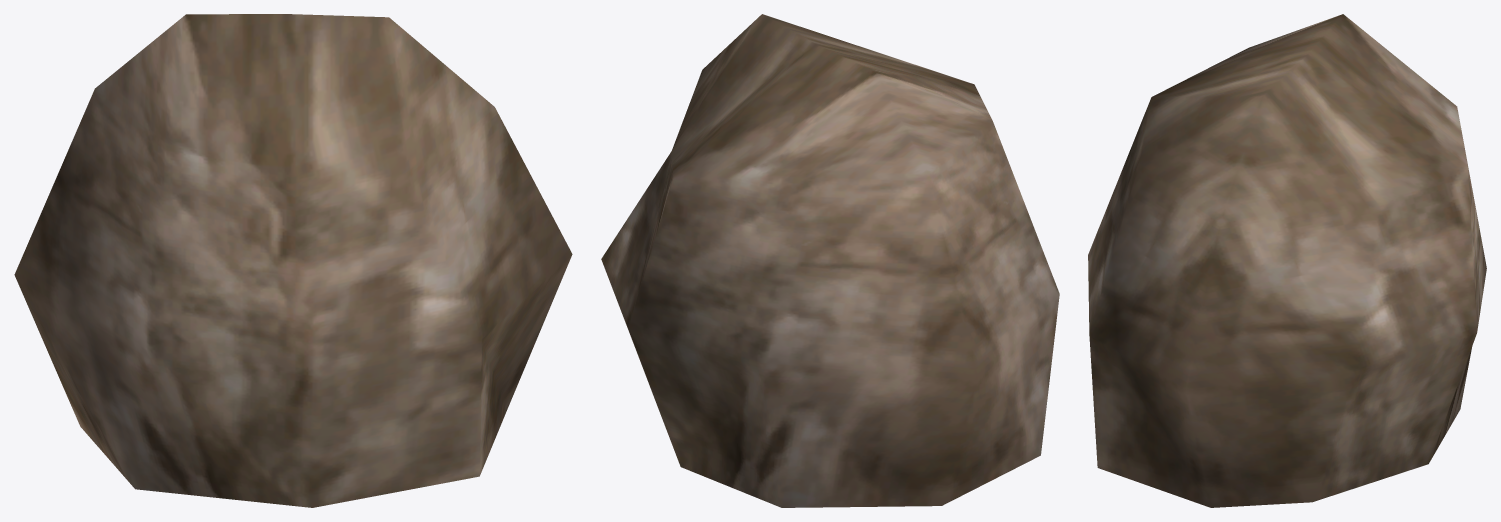
The model's file is OVERHILL_A_01_ROCK75.fbx.
3 views of the same model, side by side, from view 1: azimuth 30°, elevation 25°; view 2: azimuth 150°, elevation 25°; view 3: azimuth 270°, elevation 25° (orthographic). The views are drawn at different scales.
Parts seen in each view (by area): view 1: OVERHILL_A_01_ROCK75; view 2: OVERHILL_A_01_ROCK75; view 3: OVERHILL_A_01_ROCK75.
Part boxes in pixels (x1,y1,x2,y2): OVERHILL_A_01_ROCK75: [14, 14, 572, 507]; OVERHILL_A_01_ROCK75: [601, 14, 1059, 507]; OVERHILL_A_01_ROCK75: [1088, 14, 1486, 507].
Size of the model in its own units: 11126 by 9813 by 9339.
Materials: 1 (1 with a texture image).
